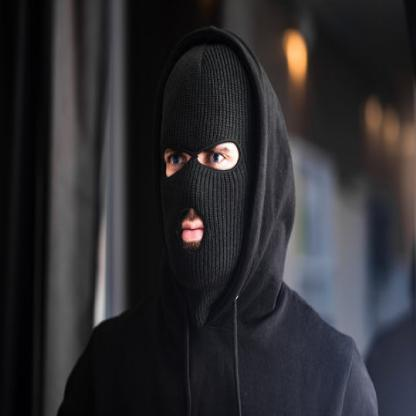criminal: (56, 26, 378, 416)
